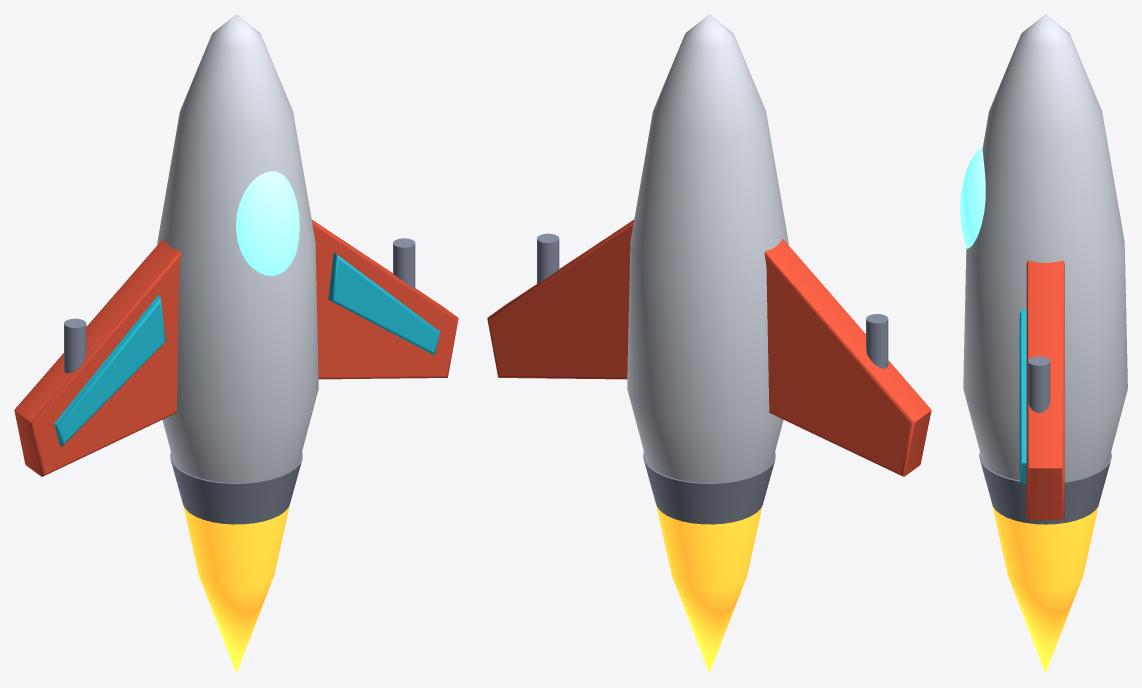
3 views of the same model, side by side, from view 1: azimuth 30°, elevation 25°; view 2: azimuth 150°, elevation 25°; view 3: azimuth 270°, elevation 25° (orthographic).
Parts seen in each view (by area): view 1: lod_trup, lod_kridlo_-1, lod, plamen_vnejsi, lod_kokpit, lod_tryska, lod_pruh_-1, lod_delo_-1; view 2: lod_trup, lod_kridlo_-1, lod, plamen_vnejsi, lod_tryska, lod_delo_-1; view 3: lod_trup, lod, plamen_vnejsi, lod_tryska, lod_kokpit.
Boxes of the visible parts, x1,y1,x2,y2 form: lod_trup: (157, 14, 318, 482); lod_kridlo_-1: (14, 239, 181, 476); lod: (312, 220, 458, 379); plamen_vnejsi: (183, 504, 289, 673); lod_kokpit: (236, 171, 299, 275); lod_tryska: (170, 452, 302, 524); lod_pruh_-1: (54, 295, 165, 446); lod_delo_-1: (64, 318, 86, 373); lod_trup: (627, 14, 788, 482); lod_kridlo_-1: (764, 239, 931, 476); lod: (487, 219, 634, 379); plamen_vnejsi: (656, 504, 762, 673); lod_tryska: (643, 452, 775, 524); lod_delo_-1: (866, 314, 888, 368); lod_trup: (963, 14, 1127, 481); lod: (1019, 260, 1064, 520); plamen_vnejsi: (992, 503, 1099, 673); lod_tryska: (979, 452, 1111, 524); lod_kokpit: (960, 147, 985, 248).
Bounding box in the file's own units: 1.56 × 2.3 × 0.53.
